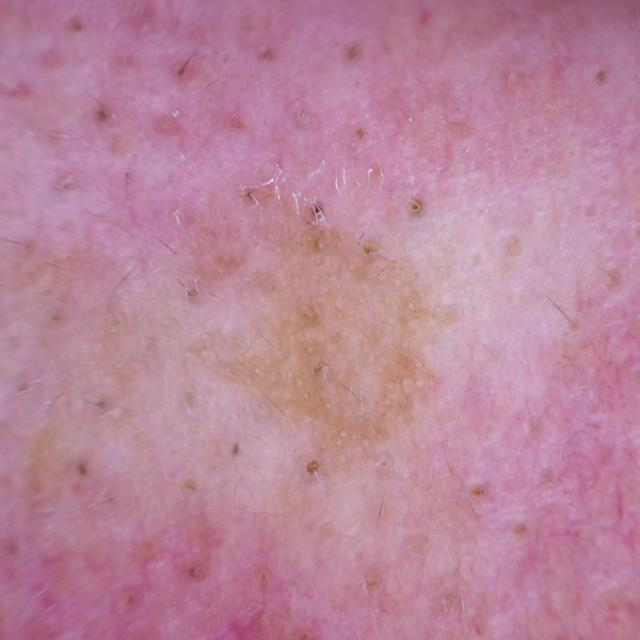Skin-Cancer Pigmented benign keratosis: (9, 6, 630, 640)
